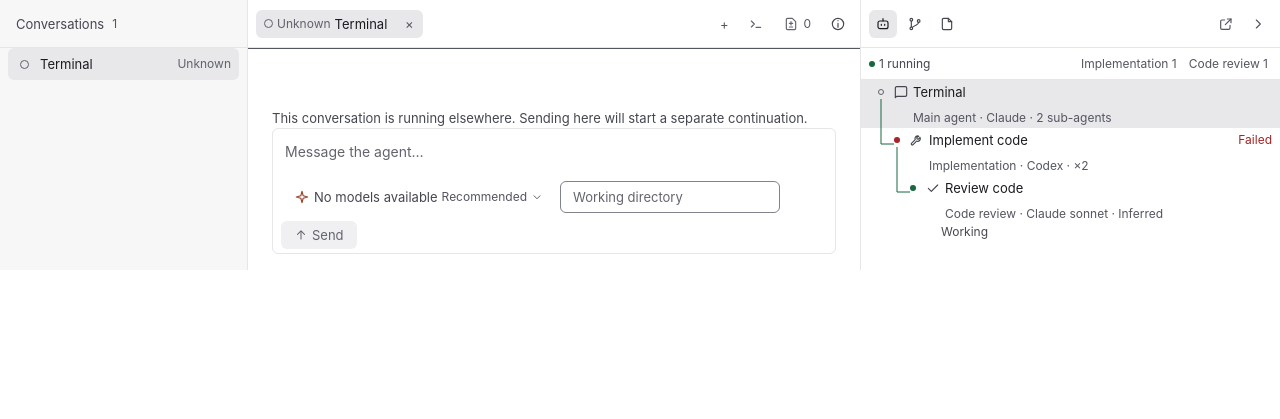
groups retry executions in one delegation node and reports retry errors
This screenshot has width=1280, height=419.
Click the list item "Implement code Implementation · Codex · ×2 Failed". click: (978, 140)
box: [861,128,1279,176]
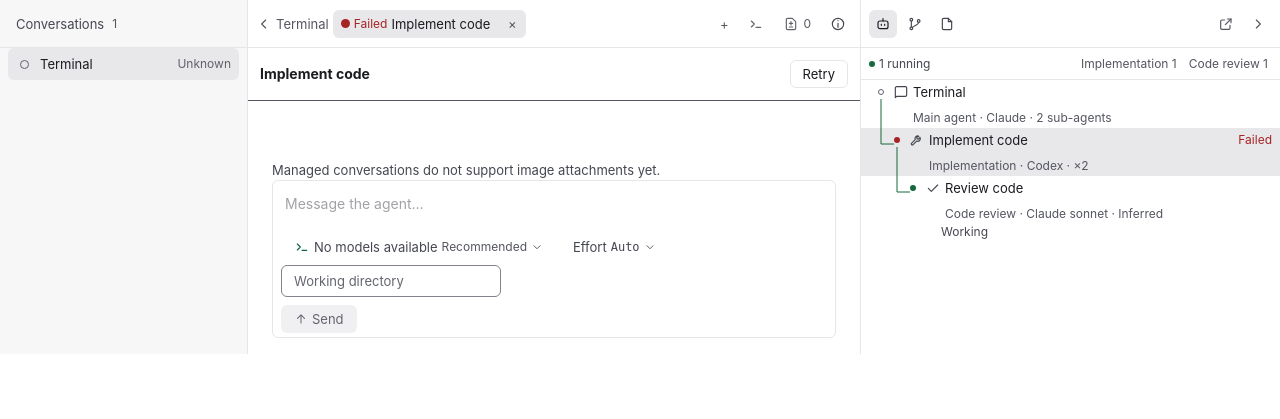
Click the button "Retry". click: (819, 74)
box: [790,60,848,88]
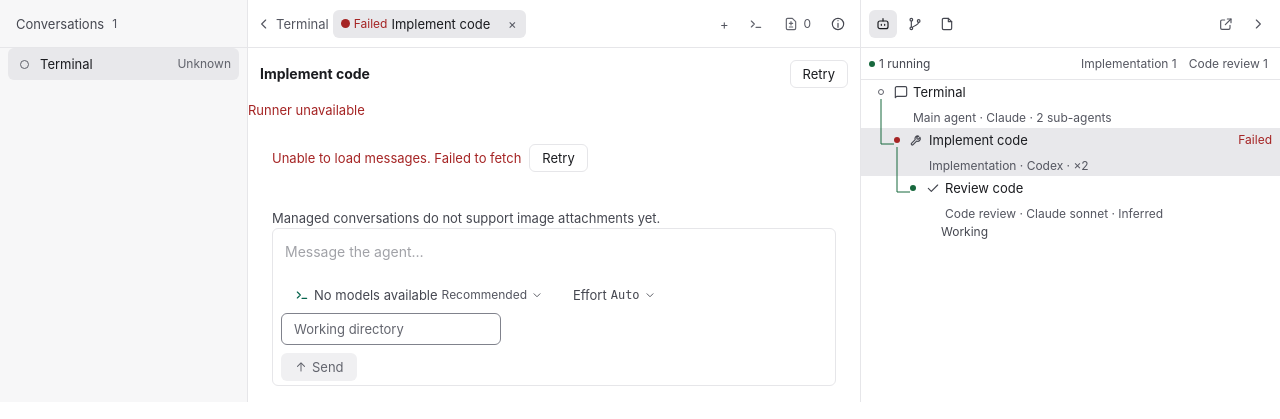
Expected: the message "Runner unavailable" is shown, [248,102,365,118]
